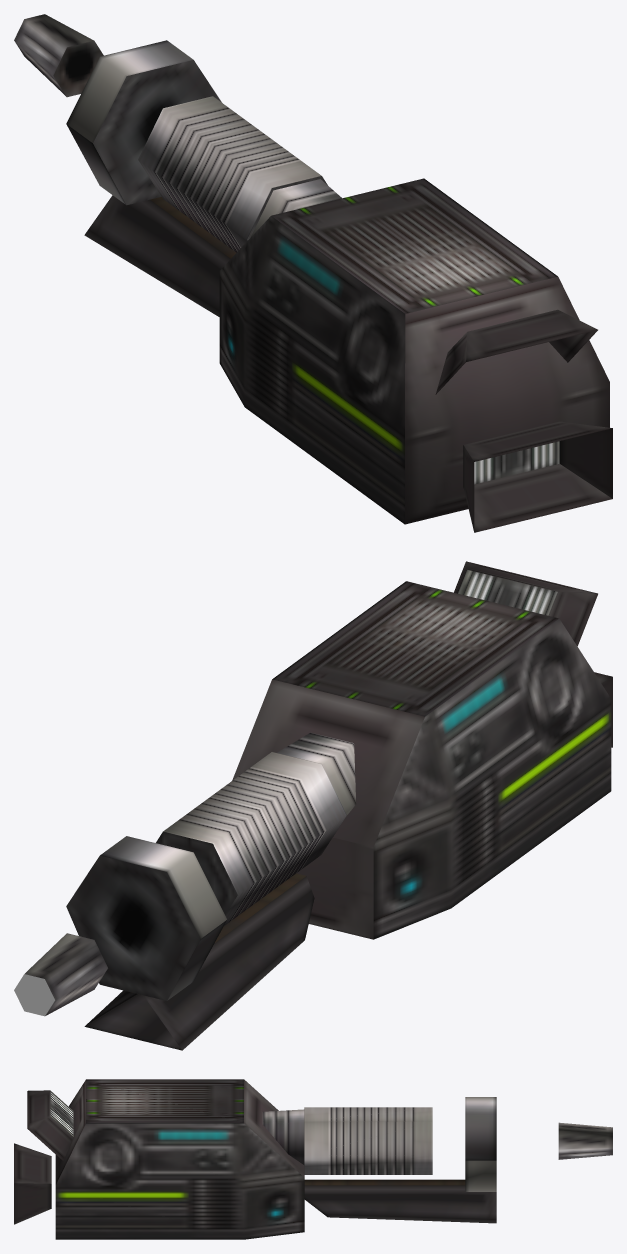
The model's file is wep09.obj.
3 renders of one model, top to bottom at view 1: azimuth 30°, elevation 25°; view 2: azimuth 150°, elevation 25°; view 3: azimuth 270°, elevation 25°, orthographic. The views are drawn at different scales.
Visible parts, largest first — view 1: frm-wepbas1, frm-wepbar2, frm-wepbas2, frm-wepbar4, frm-wepbar5, frm-wepbas3, frm-wepbar1, frm-wepbar3; view 2: frm-wepbas1, frm-wepbar4, frm-wepbar2, frm-wepbar5, frm-wepbas3, frm-wepbar1, frm-wepbar3; view 3: frm-wepbas1, frm-wepbar2, frm-wepbar5, frm-wepbar4, frm-wepbas2, frm-wepbas3, frm-wepbar1, frm-wepbar3.
Boxes of the visible parts, x1,y1,x2,y2 form: frm-wepbas1: [219, 178, 609, 524]; frm-wepbar2: [138, 96, 327, 252]; frm-wepbas2: [463, 421, 612, 532]; frm-wepbar4: [66, 40, 221, 205]; frm-wepbar5: [84, 195, 236, 316]; frm-wepbas3: [435, 309, 597, 394]; frm-wepbar1: [14, 14, 103, 97]; frm-wepbar3: [250, 179, 341, 237]; frm-wepbas1: [232, 581, 611, 939]; frm-wepbar4: [66, 836, 227, 1000]; frm-wepbar2: [156, 752, 346, 925]; frm-wepbar5: [84, 873, 314, 1050]; frm-wepbas3: [454, 561, 597, 646]; frm-wepbar1: [14, 933, 107, 1016]; frm-wepbar3: [277, 732, 356, 814]; frm-wepbas1: [55, 1079, 304, 1239]; frm-wepbar2: [304, 1107, 432, 1174]; frm-wepbar5: [304, 1179, 496, 1223]; frm-wepbar4: [465, 1097, 496, 1191]; frm-wepbas2: [14, 1143, 51, 1224]; frm-wepbas3: [27, 1090, 73, 1160]; frm-wepbar1: [558, 1122, 612, 1159]; frm-wepbar3: [262, 1109, 304, 1164].
Size of the model in its own units: 0.2594 by 0.2238 by 1.11.
